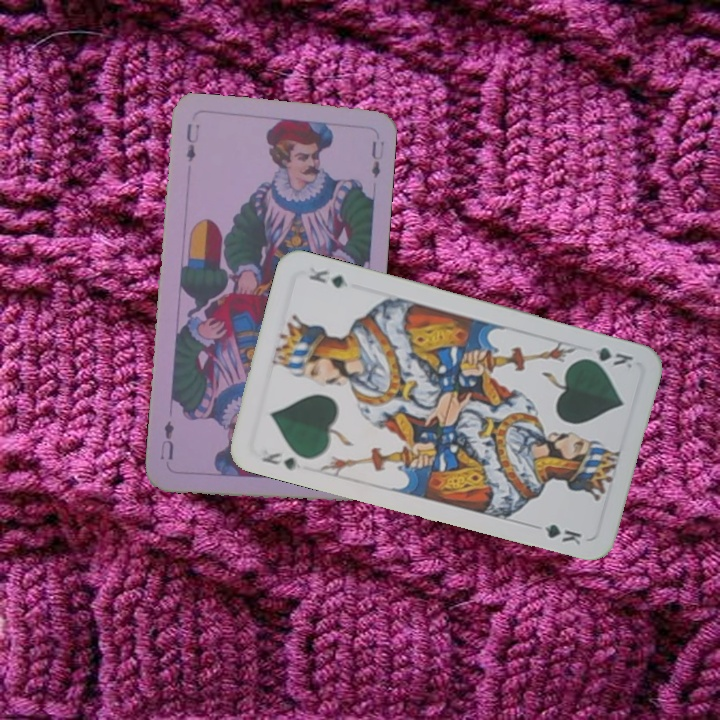EU: (182, 119, 202, 165)
GK: (578, 343, 636, 371), (257, 448, 305, 473)
